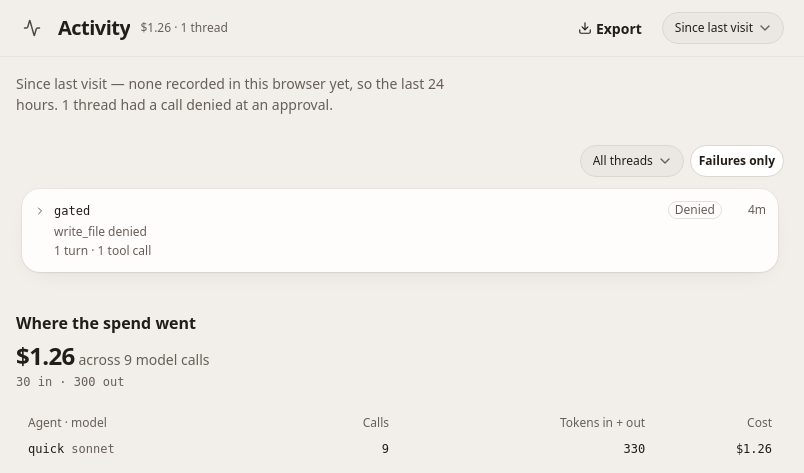
Test case: a thread whose only miss was a denial › names the filter for what it shows, and does not count a denial as a failure
This screenshot has width=804, height=473.
Expected: the dropdown named "Show threads" reads "All threads", [580,145,684,177]
Click the button "Failures only". click: [737, 161]
box: [690,145,784,177]
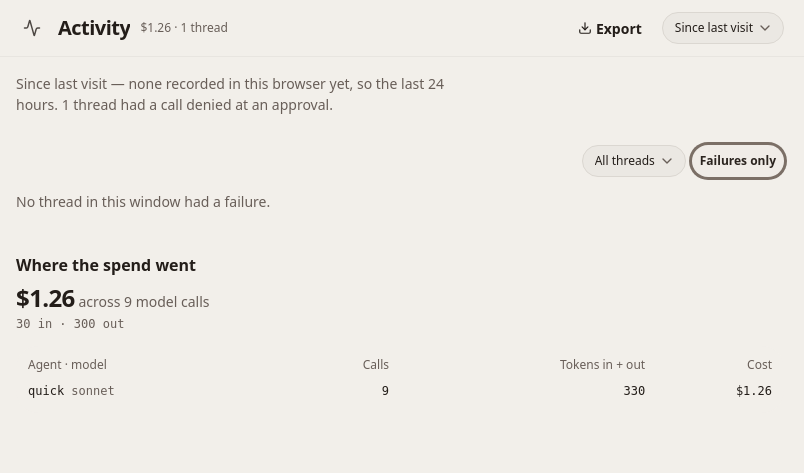
Now the text "No thread in this window had a failure." is shown, box [16,192,270,211]
